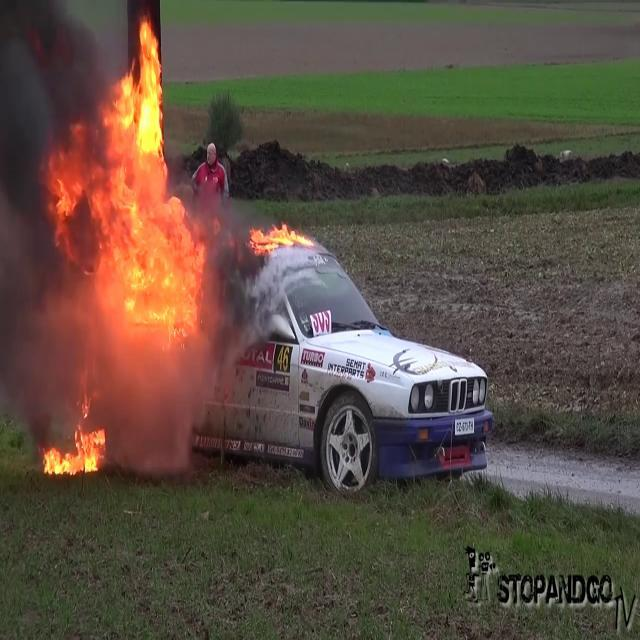Fire: (39, 14, 210, 350), (38, 414, 114, 484), (246, 216, 310, 254)
Smoke: (0, 1, 106, 407)
